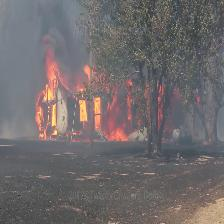fire: (37, 32, 213, 154)
smoke: (0, 0, 88, 145)
